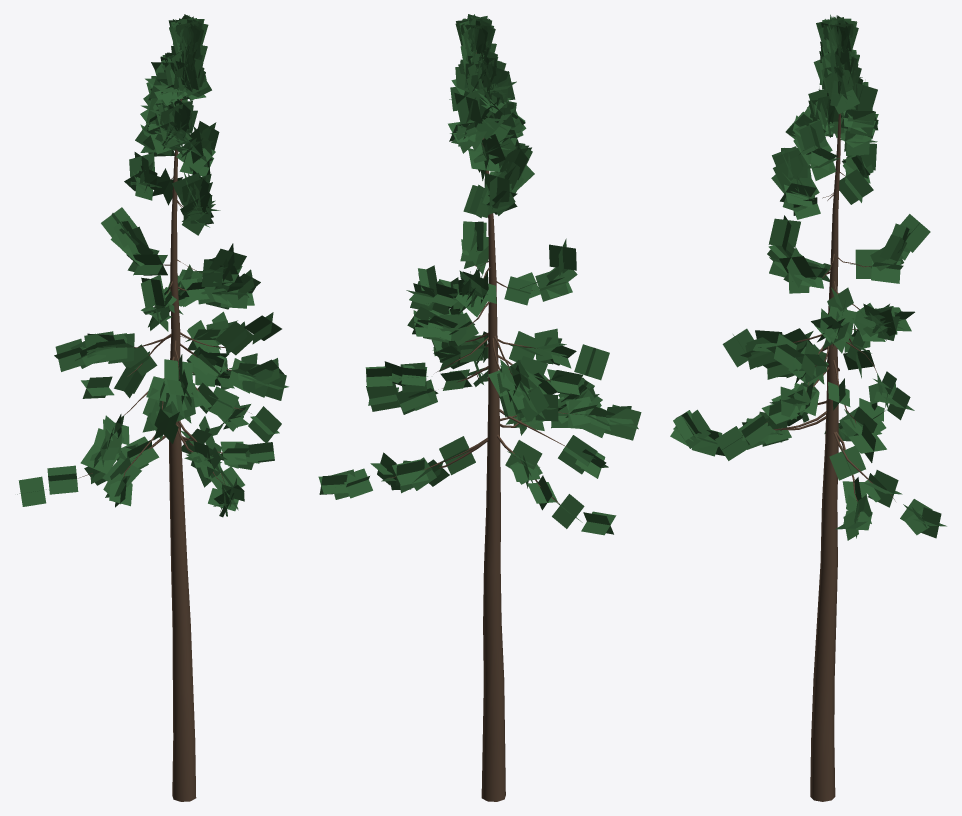
File: pine-1-lod1.glb
The picture shows the model from 3 angles, left to right: view 1: azimuth 30°, elevation 25°; view 2: azimuth 150°, elevation 25°; view 3: azimuth 270°, elevation 25°; orthographic projection.
Parts seen in each view (by area): view 1: leaves, branches; view 2: leaves, branches; view 3: leaves, branches.
Part boxes in pixels (x1,y1,x2,y2): leaves: (17,14,288,517); branches: (77,99,251,801); leaves: (318,14,641,535); branches: (388,52,576,801); leaves: (670,14,946,540); branches: (766,113,895,801).
Bounding box in the file's own units: 5.99 × 17 × 5.46.
